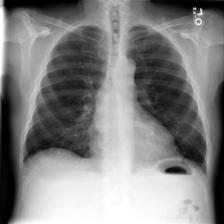normal: (19, 18, 215, 176)
